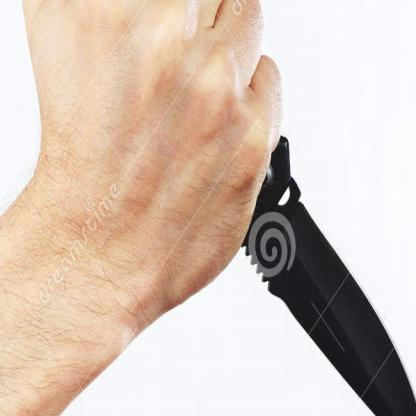knife: (143, 0, 415, 415)
